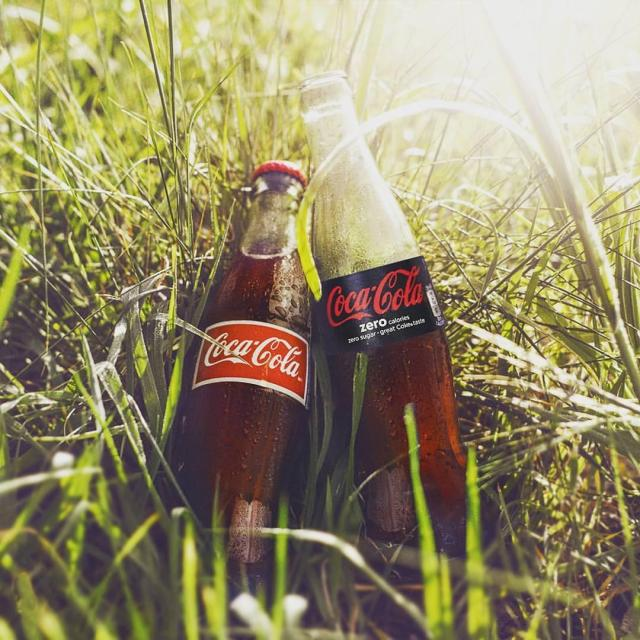coca-cola: (292, 70, 475, 538), (172, 158, 313, 569)
